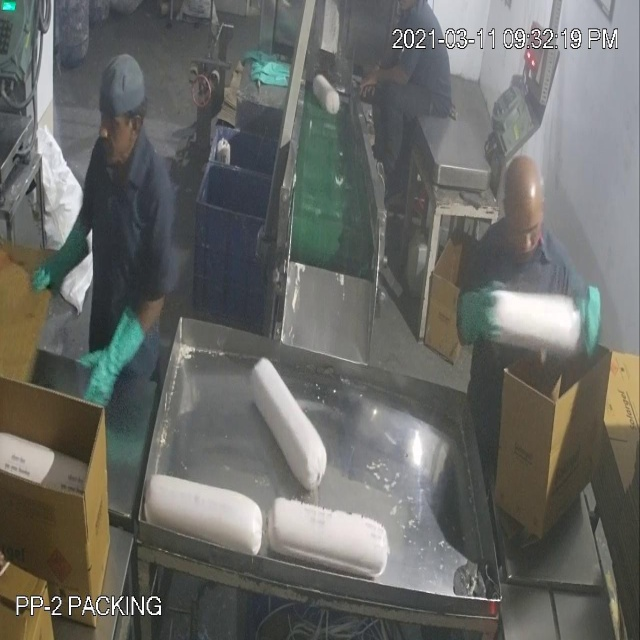Guantes: (77, 304, 141, 411), (33, 213, 94, 302), (451, 265, 502, 356)
Sin_guantes: (361, 47, 415, 107)
